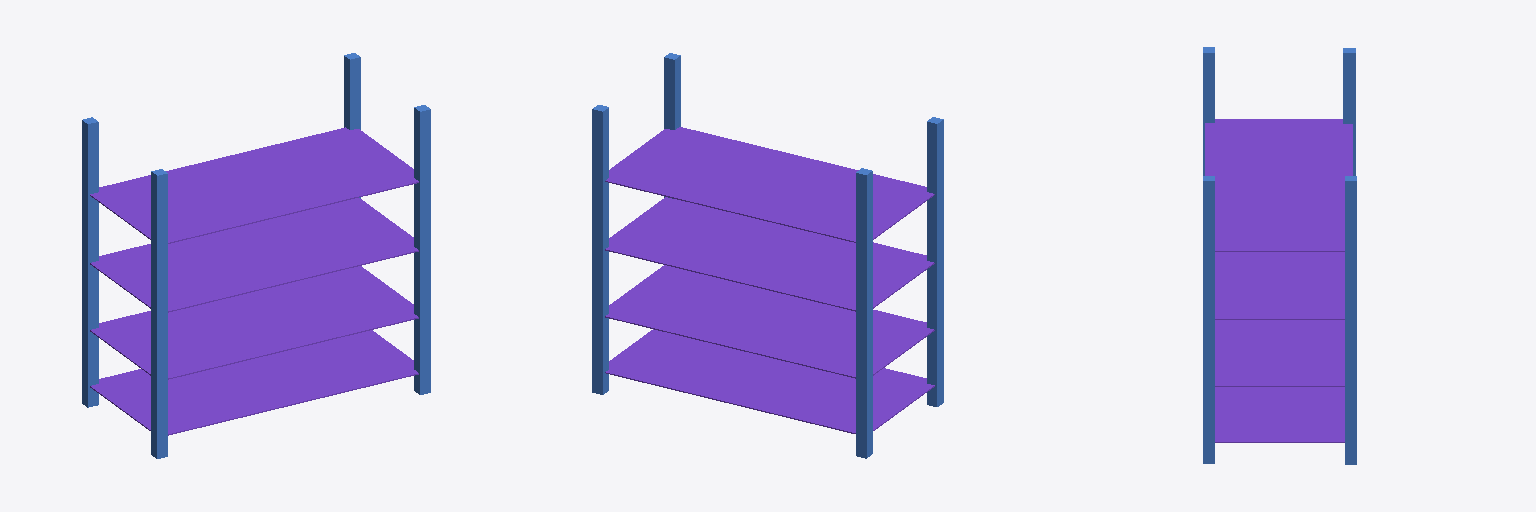
Rendered from shelf.obj.
3 views of the same model, side by side, from view 1: azimuth 30°, elevation 25°; view 2: azimuth 150°, elevation 25°; view 3: azimuth 270°, elevation 25° (orthographic).
Parts seen in each view (by area): view 1: Box009, Box008, Box007, Box006, Box004, Box002, Box005, Box003; view 2: Box009, Box008, Box007, Box006, Box005, Box003, Box004, Box002; view 3: Box009, Box008, Box007, Box006, Box003, Box002, Box005, Box004.
Part boxes in pixels (bbox=[...]): Box009: bbox=[90, 127, 418, 243]; Box008: bbox=[90, 198, 418, 312]; Box007: bbox=[90, 266, 418, 379]; Box006: bbox=[90, 330, 418, 435]; Box004: bbox=[151, 169, 167, 458]; Box002: bbox=[414, 105, 430, 394]; Box005: bbox=[82, 117, 98, 407]; Box003: bbox=[344, 53, 360, 198]; Box009: bbox=[605, 127, 934, 242]; Box008: bbox=[605, 197, 934, 311]; Box007: bbox=[605, 265, 934, 378]; Box006: bbox=[605, 329, 934, 433]; Box005: bbox=[856, 168, 872, 458]; Box003: bbox=[592, 105, 608, 394]; Box004: bbox=[927, 117, 943, 406]; Box002: bbox=[664, 53, 680, 198]; Box009: bbox=[1205, 119, 1352, 251]; Box008: bbox=[1215, 252, 1344, 319]; Box007: bbox=[1215, 320, 1344, 386]; Box006: bbox=[1215, 387, 1344, 442]; Box003: bbox=[1345, 176, 1356, 464]; Box002: bbox=[1203, 176, 1214, 463]; Box005: bbox=[1343, 48, 1355, 175]; Box004: bbox=[1203, 47, 1214, 175].
Size of the model in its own units: 101 by 100 by 49.34.